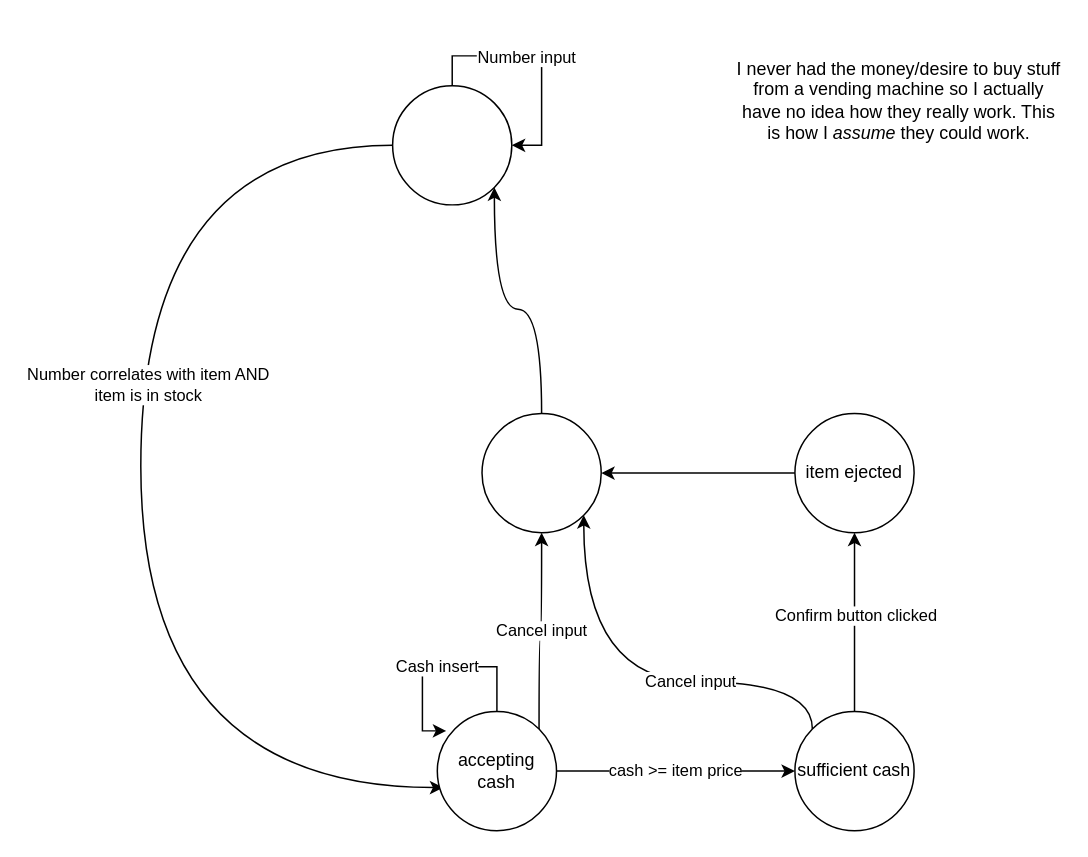
Image size: 1088x857. Some labels were removed from this diagram. Each missing label, with the centre of its shape:
"awaiting number" goes at point 451,144.
"change ejected" goes at point 541,472.
